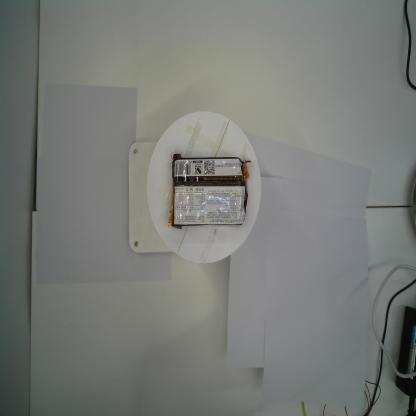Dessert: (166, 153, 252, 231)
